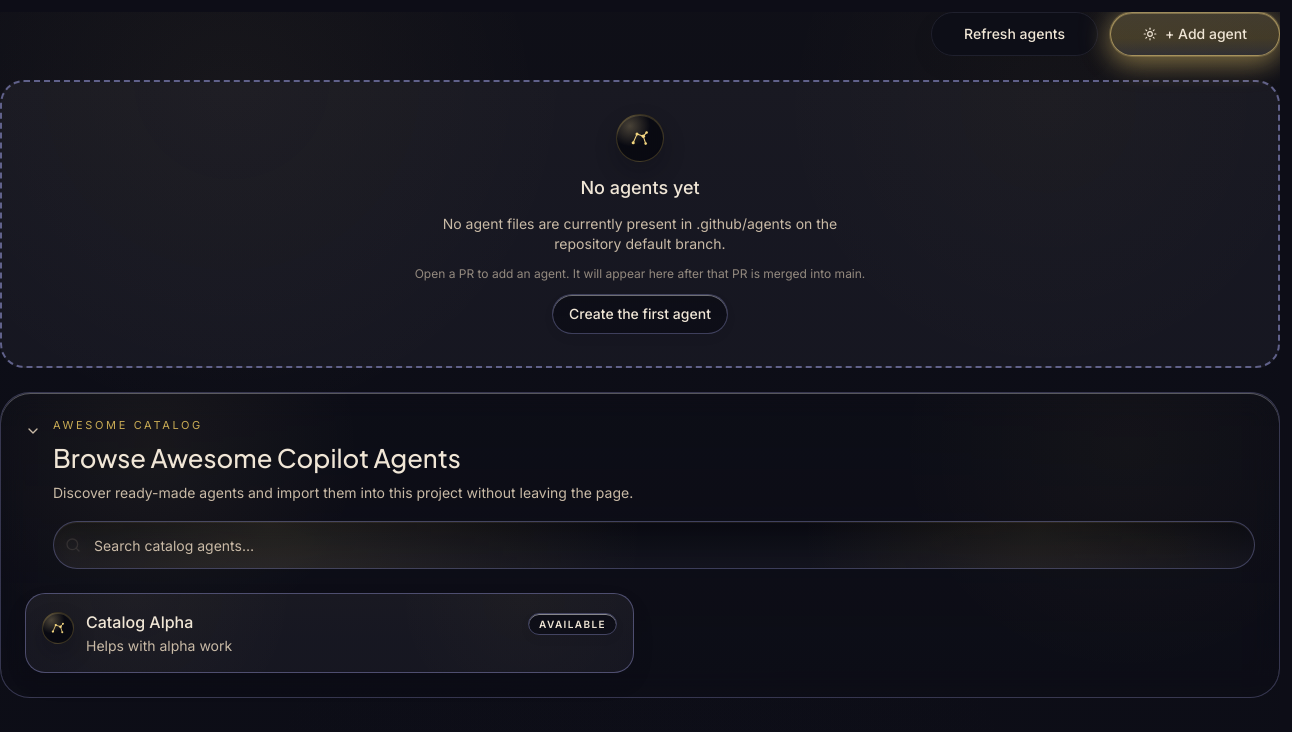
Test case: AgentsPanel › keeps section header visible when section body is collapsed
Click the button "Browse Awesome Copilot Agents".
click(128, 425)  # box top-left (25, 417), bottom-right (1255, 506)
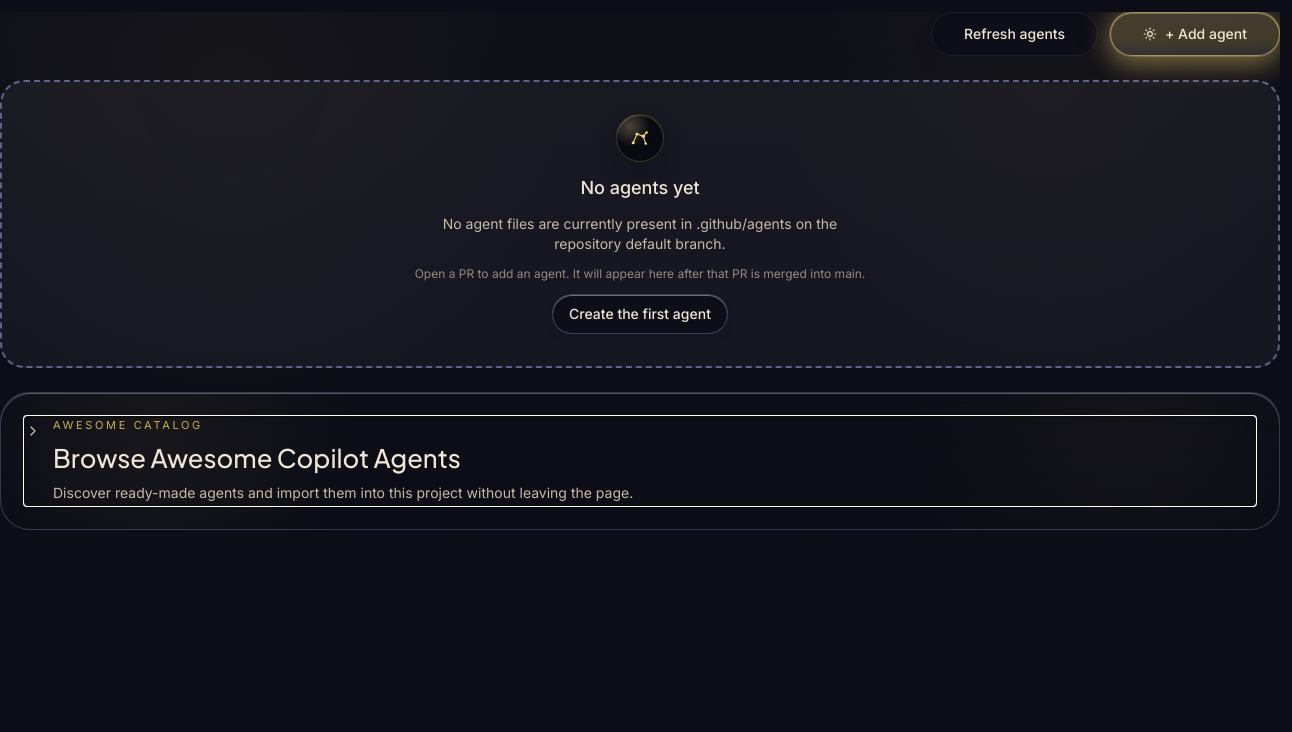
Expected: the heading "Browse Awesome Copilot Agents" is shown, top-left (53, 440), bottom-right (461, 474)
Expected: the button "Catalog Alpha" is gone
